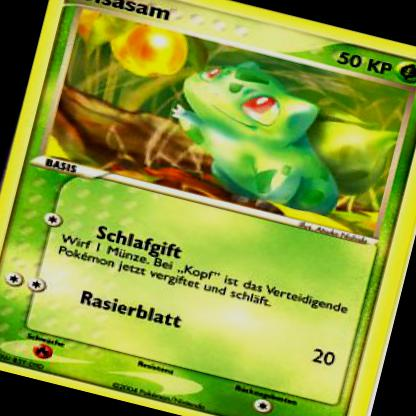Bulbasaur: (162, 47, 407, 232)
